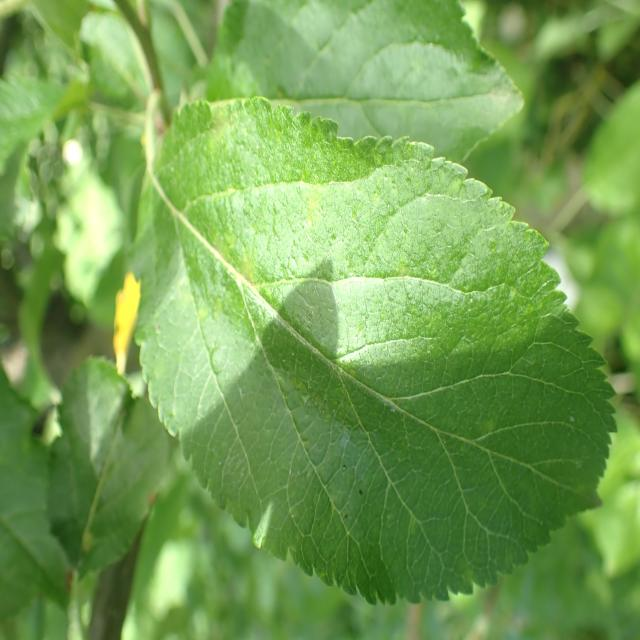scab: (153, 89, 571, 545)
